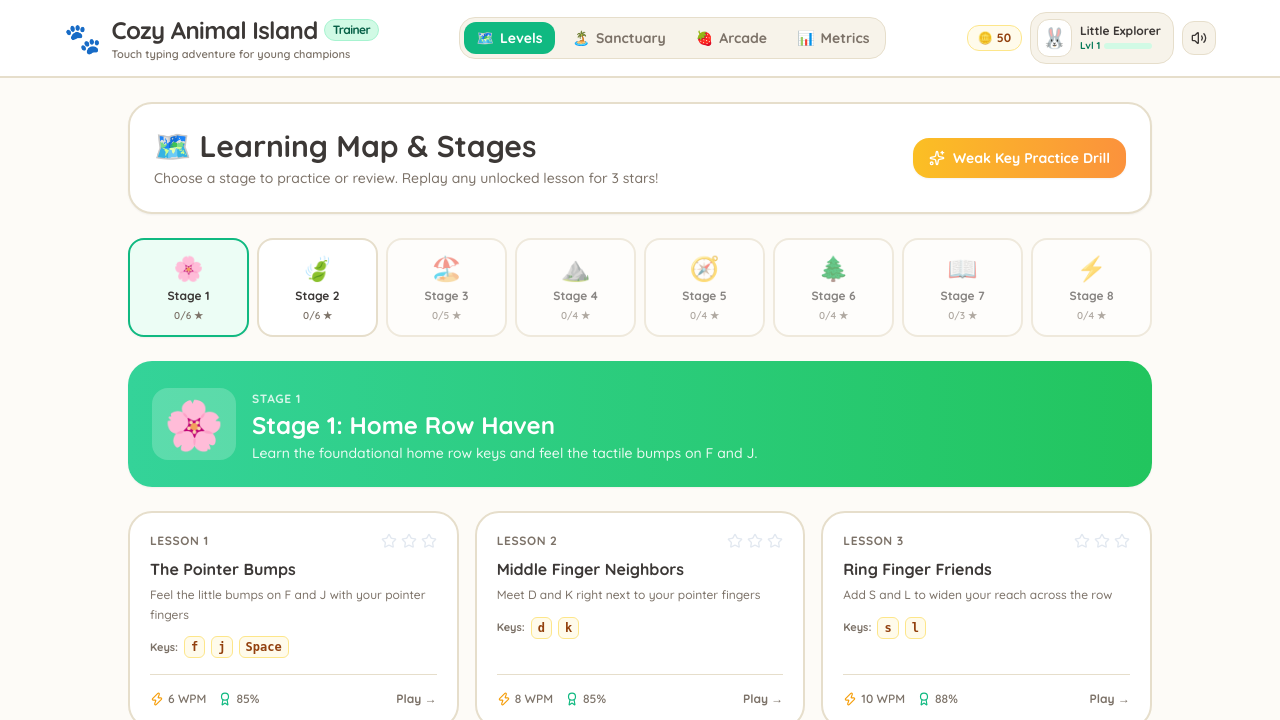
App Component › navigates to Metrics view when clicking Metrics tab
Click the button "📊 Metrics".
click(833, 38)  # box x1=785 y1=22 x2=881 y2=54
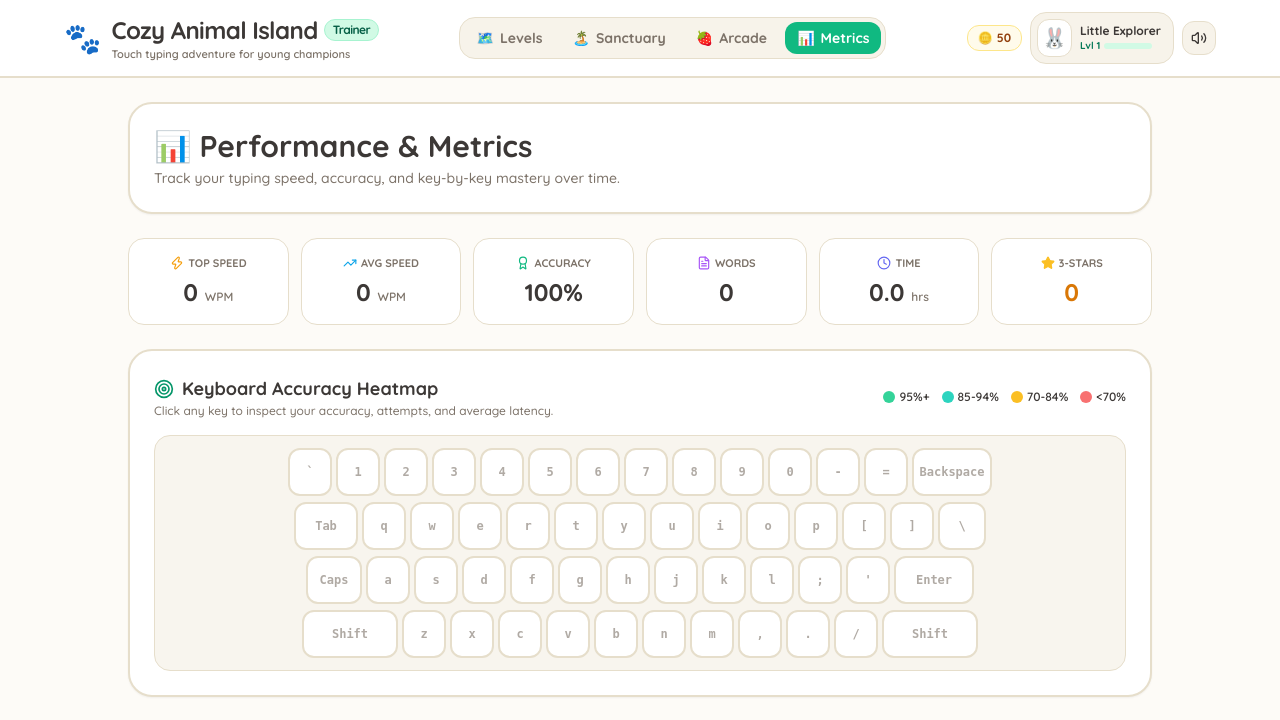
Check: the heading "📊 Performance & Metrics" is shown, box x1=154 y1=127 x2=532 y2=165
Check: the heading "Keyboard Accuracy Heatmap" is shown, box x1=154 y1=376 x2=438 y2=400
